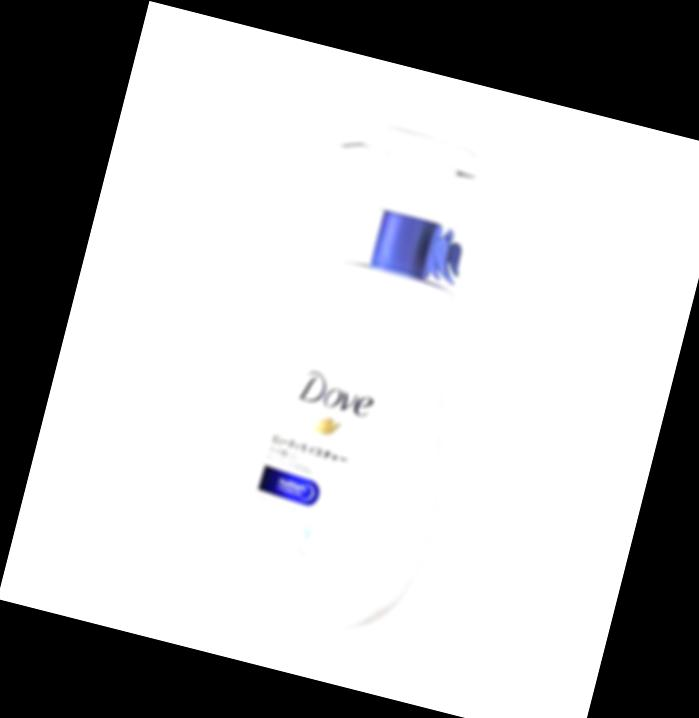cosmetic: (205, 107, 530, 652)
